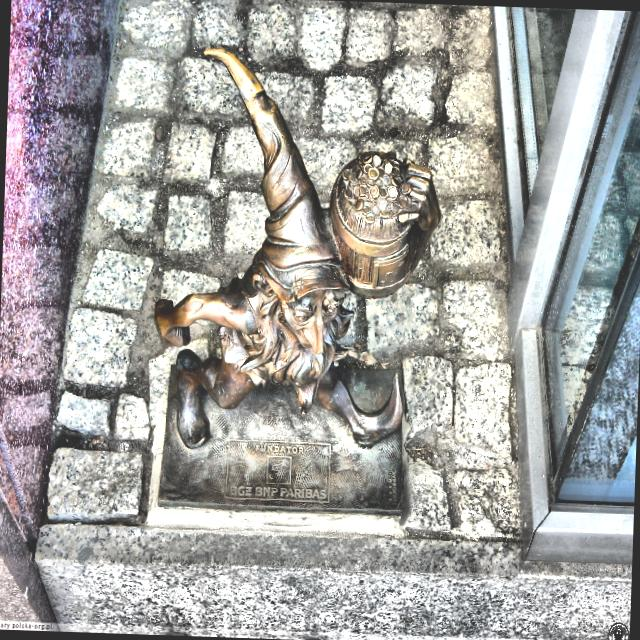Leprykonus: (140, 34, 446, 522)
